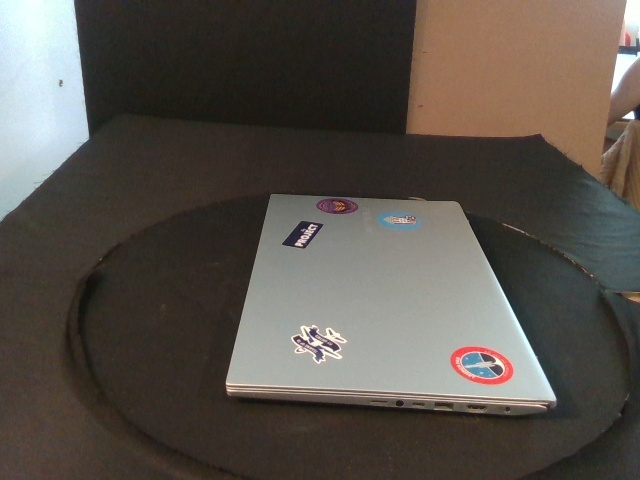laptop: (224, 194, 558, 417)
